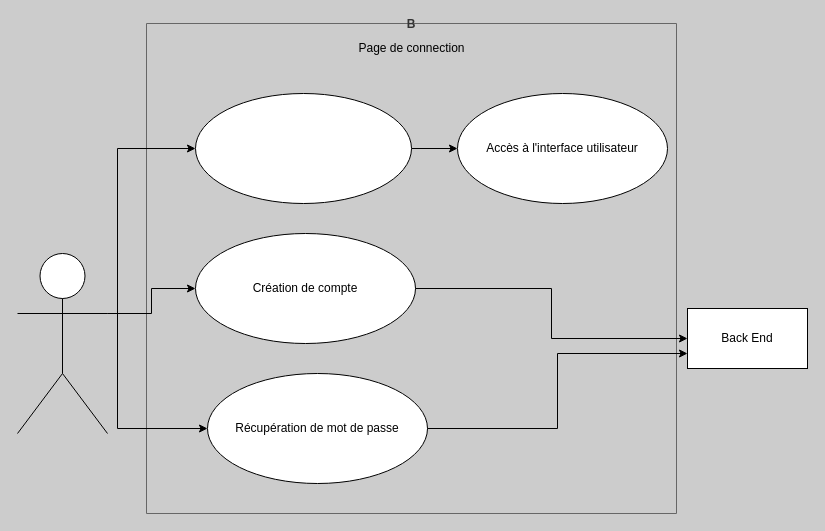
The diagram is 825 pixels wide and 531 high, and some of its shapes have lost their labels. The shapes that lost their labels are listed below. From the top down, each one's box as (x1, y1, x2, y2) in pixels, then its label:
(194, 92, 412, 204): Connection
(16, 252, 108, 434): Utilisateur
